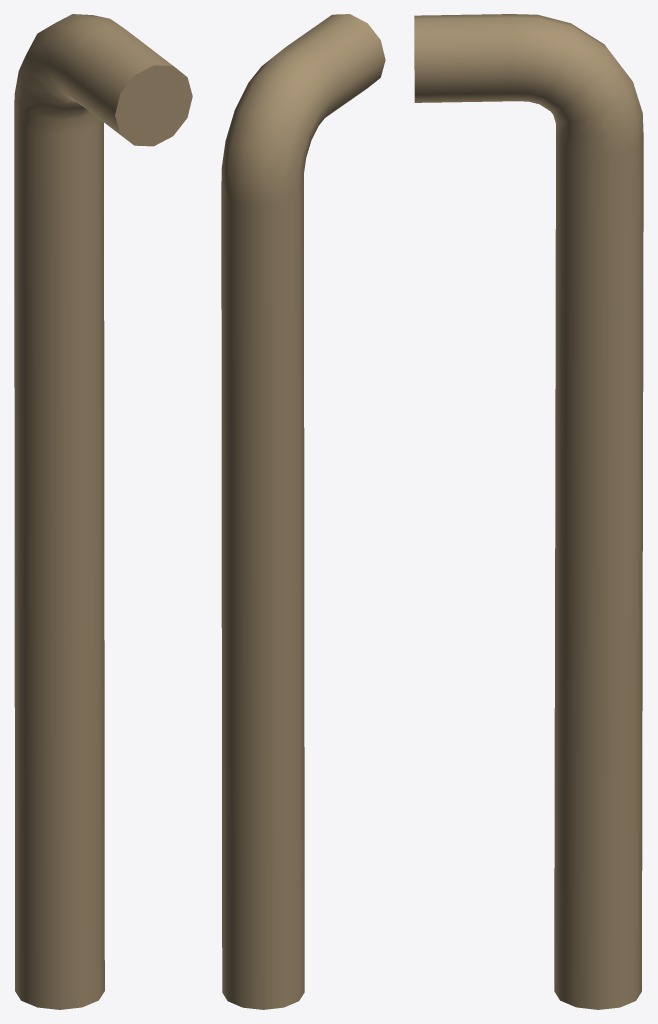
File: DamPropPipeBend.fbx
3 views of the same model, side by side, from view 1: azimuth 30°, elevation 25°; view 2: azimuth 150°, elevation 25°; view 3: azimuth 270°, elevation 25° (orthographic). The views are drawn at different scales.
Visible parts, largest first — view 1: PipeBend; view 2: PipeBend; view 3: PipeBend.
Boxes of the visible parts, x1,y1,x2,y2 form: PipeBend: [14, 14, 192, 1009]; PipeBend: [221, 14, 385, 1009]; PipeBend: [414, 14, 643, 1009].
Bounding box in the file's own units: 0.5653 × 6.93 × 1.48.
